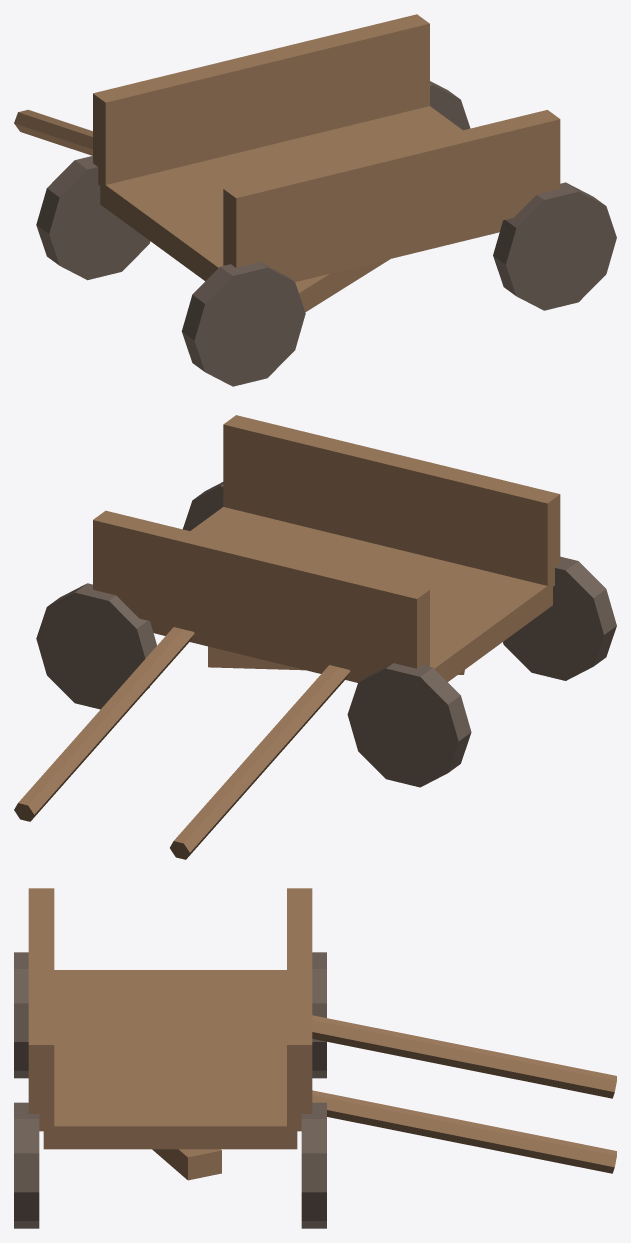
Rendered from cart_broken.glb.
3 views of the same model, one above another, from view 1: azimuth 30°, elevation 25°; view 2: azimuth 150°, elevation 25°; view 3: azimuth 270°, elevation 25° (orthographic).
Visible parts, largest first — view 1: cart_broken; view 2: cart_broken; view 3: cart_broken.
Part boxes in pixels (x1,y1,x2,y2): cart_broken: [14, 14, 616, 386]; cart_broken: [14, 415, 616, 859]; cart_broken: [14, 888, 616, 1228].
Size of the model in its own units: 2.28 by 0.9303 by 2.85.
